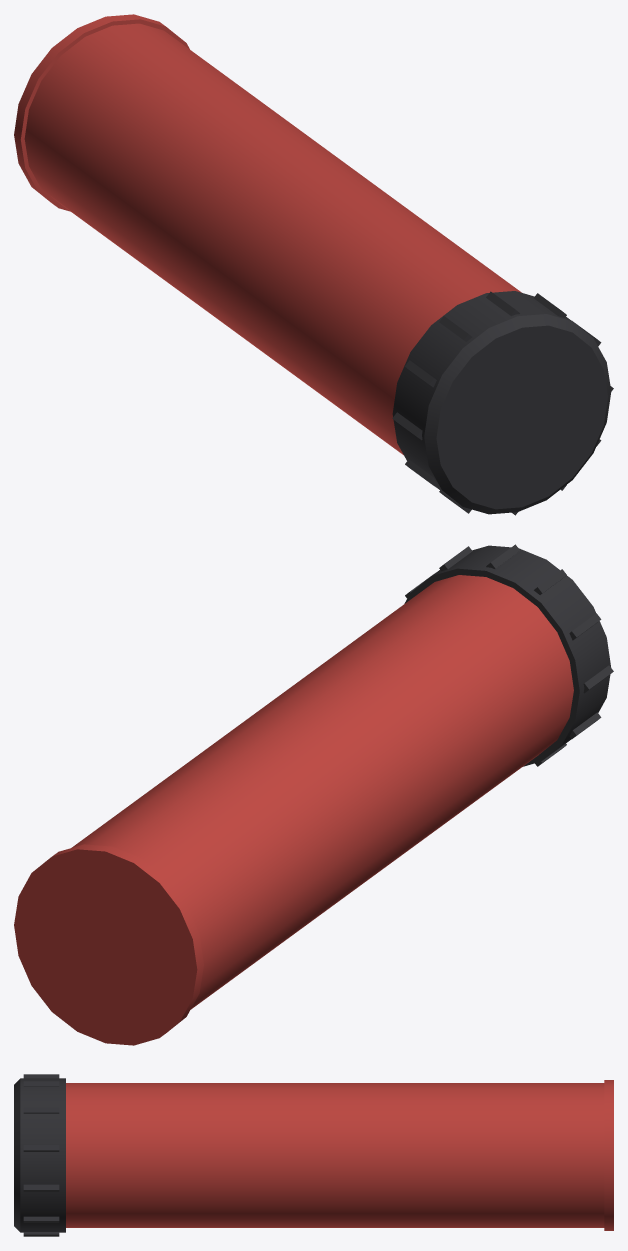
The model's file is tool_tube.glb.
3 views of the same model, one above another, from view 1: azimuth 30°, elevation 25°; view 2: azimuth 150°, elevation 25°; view 3: azimuth 270°, elevation 25° (orthographic). The views are drawn at different scales.
Parts seen in each view (by area): view 1: lod0; view 2: lod0; view 3: lod0.
Part boxes in pixels (<box>): lod0: <box>14,14,613,515</box>; lod0: <box>14,544,613,1045</box>; lod0: <box>14,1074,613,1236</box>.
Size of what is drawn, in the model's own units: 0.101 by 0.101 by 0.37.
